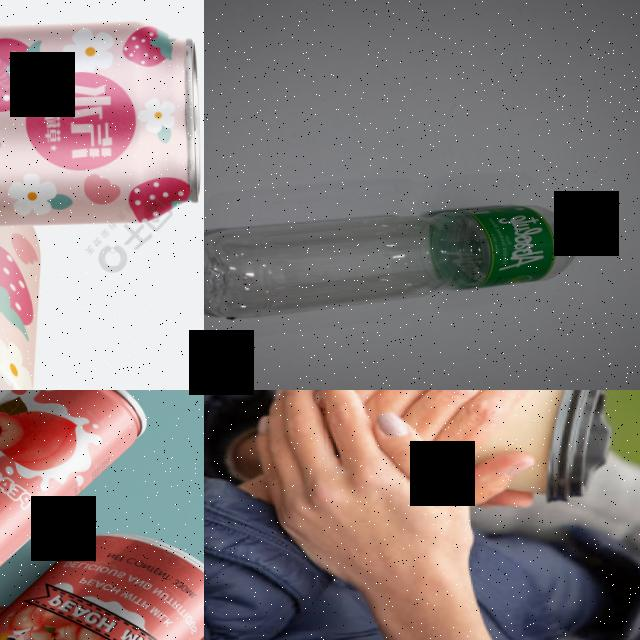bottle: (204, 200, 608, 319)
can: (0, 15, 202, 235), (0, 390, 152, 607), (0, 524, 204, 640)
cup: (326, 390, 611, 510)
